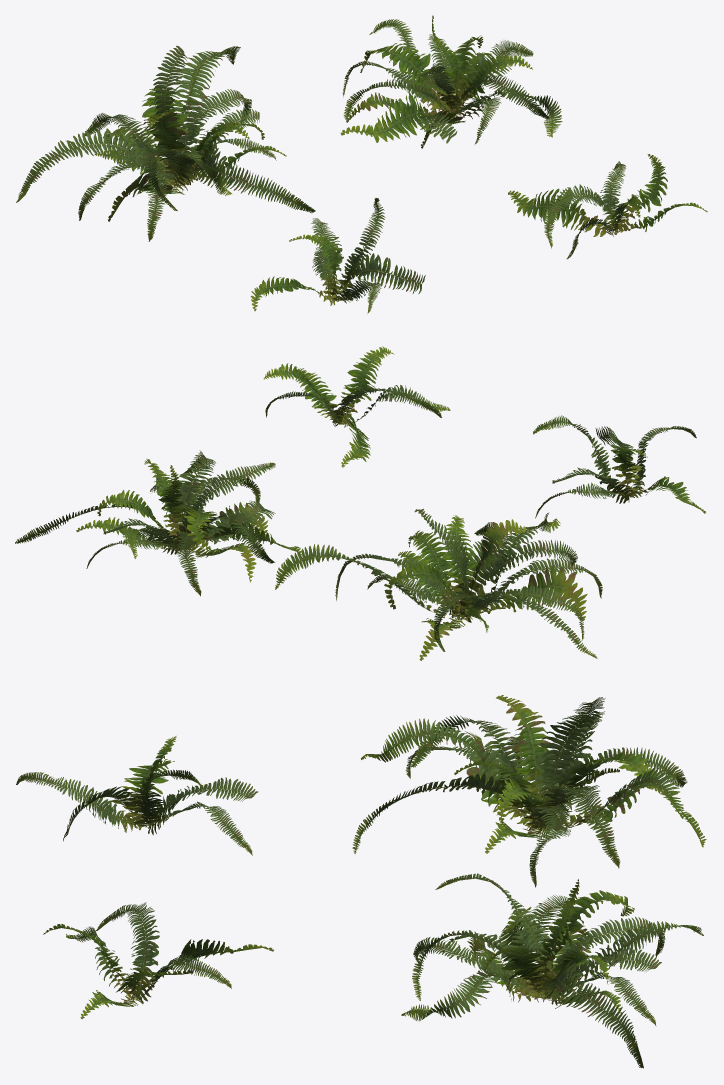
The model's file is fern_02.glb.
3 views of the same model, one above another, from view 1: azimuth 30°, elevation 25°; view 2: azimuth 150°, elevation 25°; view 3: azimuth 270°, elevation 25° (orthographic). The views are drawn at different scales.
Parts seen in each view (by area): view 1: fern_02_b, fern_02_c, fern_02_a, fern_02_d; view 2: fern_02_b, fern_02_c, fern_02_d, fern_02_a; view 3: fern_02_b, fern_02_c, fern_02_a, fern_02_d.
Part boxes in pixels (box(x1,y1,x2,y2)): fern_02_b: box(16, 45, 315, 241); fern_02_c: box(340, 15, 562, 148); fern_02_a: box(250, 198, 425, 313); fern_02_d: box(508, 154, 707, 259); fern_02_b: box(275, 508, 602, 660); fern_02_c: box(15, 450, 302, 596); fern_02_d: box(263, 346, 450, 467); fern_02_a: box(533, 415, 705, 518); fern_02_b: box(352, 695, 706, 887); fern_02_c: box(401, 873, 703, 1068); fern_02_a: box(16, 736, 258, 855); fern_02_d: box(43, 902, 273, 1019).
Size of the model in its own units: 2 by 0.4337 by 1.75.
1 material, 1 textured.
